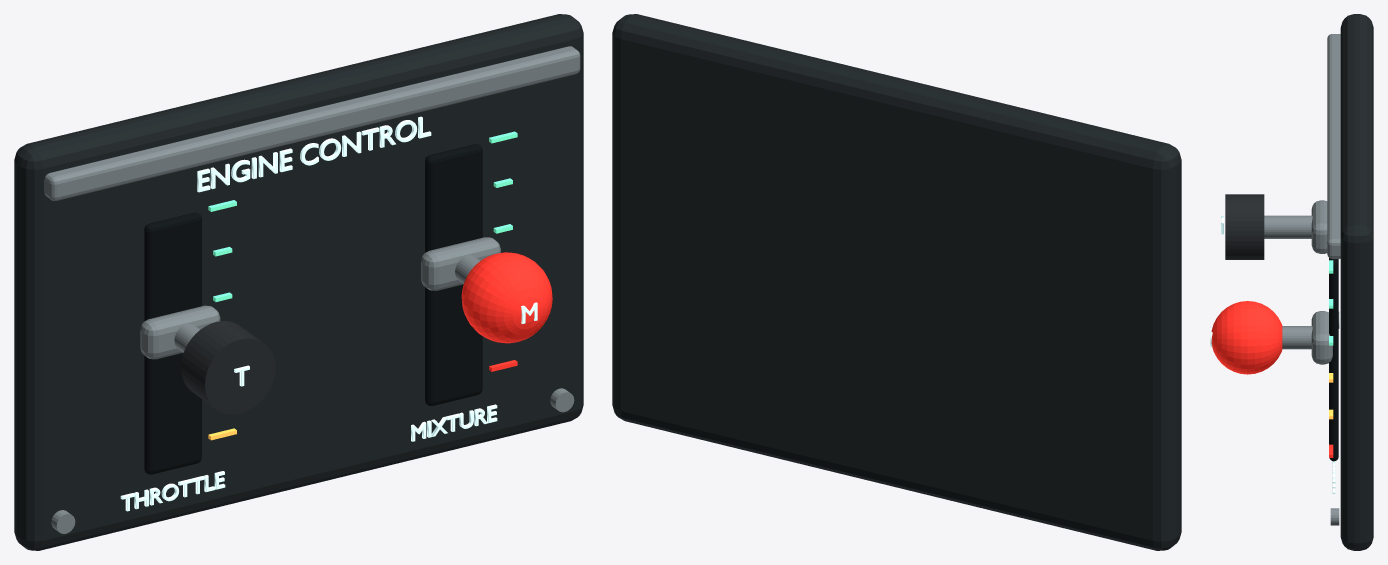
Rendered from engine_control_quadrant.glb.
3 renders of one model, left to right at view 1: azimuth 30°, elevation 25°; view 2: azimuth 150°, elevation 25°; view 3: azimuth 270°, elevation 25°, orthographic. The views are drawn at different scales.
Visible parts, largest first — view 1: Quadrant_Backplate, Quadrant_TopRail, Throttle_Track, Mixture_Track, Throttle_Knob, Mixture_Knob, Quadrant_Title, Throttle_Carriage, Mixture_Carriage, Throttle_Label, Mixture_Label; view 2: Quadrant_Backplate; view 3: Quadrant_Backplate, Mixture_Knob, Quadrant_TopRail, Throttle_Knob, Mixture_Track, Throttle_Stem, Mixture_Carriage, Throttle_Carriage, Mixture_Stem.
Part boxes in pixels (x1,y1,x2,y2): Quadrant_Backplate: (14,14,583,550); Quadrant_TopRail: (44,46,580,200); Throttle_Track: (144,212,201,474); Mixture_Track: (425,144,482,405); Throttle_Knob: (181,321,275,414); Mixture_Knob: (461,252,552,343); Quadrant_Title: (197,116,431,192); Throttle_Carriage: (140,305,220,359); Mixture_Carriage: (421,237,500,290); Throttle_Label: (120,471,225,511); Mixture_Label: (411,404,497,441); Quadrant_Backplate: (612,14,1181,550); Quadrant_Backplate: (1340,14,1373,550); Mixture_Knob: (1211,301,1282,374); Quadrant_TopRail: (1327,34,1340,258); Throttle_Knob: (1225,194,1264,259); Mixture_Track: (1329,258,1338,461); Throttle_Stem: (1264,215,1312,238); Mixture_Carriage: (1311,311,1332,364); Throttle_Carriage: (1311,200,1327,253); Mixture_Stem: (1282,326,1312,349).
Bounding box in the file's own units: 5.4 × 3.7 × 1.69.
